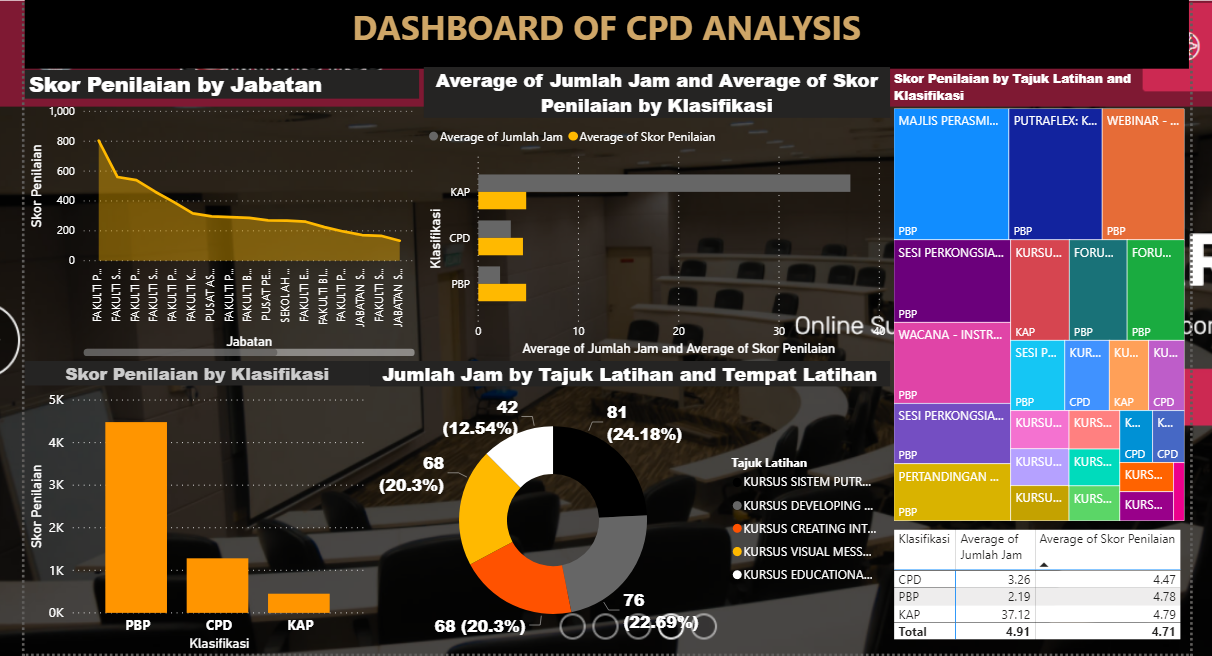

What the dashboard file says about the page in this screenshot:
{"tool":"powerbi","page":{"name":"Page 1","canvas":[1280,720],"ordinal":0},"visuals":[{"type":"clusteredColumnChart","fields":{"Y":["Sum(DATA PESERTA  CPD2020.Skor Penilaian)"],"Category":["DATA PESERTA  CPD2020.Klasifikasi"]},"box":[0,397.6,379.6,323.7],"z":0},{"type":"textbox","box":[0,0,1280,77.2],"z":1000},{"type":"donutChart","fields":{"Category":["DATA PESERTA  CPD2020.Tajuk Latihan"],"Y":["Sum(DATA PESERTA  CPD2020.Jumlah Jam)"],"Series":["DATA PESERTA  CPD2020.Tempat Latihan"]},"box":[379.6,397.6,571.8,322.1],"z":2000},{"type":"stackedAreaChart","fields":{"Category":["DATA PESERTA  CPD2020.Jabatan"],"Y":["Sum(DATA PESERTA  CPD2020.Skor Penilaian)"]},"box":[0,77.2,433.8,320.4],"z":3000},{"type":"pivotTable","fields":{"Rows":["DATA PESERTA  CPD2020.Klasifikasi"],"Values":["Avg(DATA PESERTA  CPD2020.Jumlah Jam)","Avg(DATA PESERTA  CPD2020.Skor Penilaian)"]},"box":[951.4,578.4,328.6,141.3],"z":4000},{"type":"clusteredBarChart","fields":{"Category":["DATA PESERTA  CPD2020.Klasifikasi"],"Y":["Avg(DATA PESERTA  CPD2020.Jumlah Jam)","Avg(DATA PESERTA  CPD2020.Skor Penilaian)"]},"box":[438.7,75.6,512.7,322.1],"z":5000},{"type":"treemap","fields":{"Group":["DATA PESERTA  CPD2020.Tajuk Latihan"],"Values":["Sum(DATA PESERTA  CPD2020.Skor Penilaian)"],"Details":["DATA PESERTA  CPD2020.Klasifikasi"]},"box":[951.4,77.2,328.6,501.2],"z":6000}]}

Visuals, with their boxes in screenshot pixels (x1, y1, x2, y2):
clusteredColumnChart - Sum(DATA PESERTA  CPD2020.Skor Penilaian) x DATA PESERTA  CPD2020.Klasifikasi: (left=35, top=370, right=376, bottom=655)
textbox: (left=35, top=13, right=1186, bottom=82)
donutChart - DATA PESERTA  CPD2020.Tajuk Latihan x Sum(DATA PESERTA  CPD2020.Jumlah Jam): (left=376, top=370, right=890, bottom=655)
stackedAreaChart - DATA PESERTA  CPD2020.Jabatan x Sum(DATA PESERTA  CPD2020.Skor Penilaian): (left=35, top=82, right=425, bottom=370)
pivotTable - DATA PESERTA  CPD2020.Klasifikasi x Avg(DATA PESERTA  CPD2020.Jumlah Jam): (left=890, top=533, right=1186, bottom=655)
clusteredBarChart - DATA PESERTA  CPD2020.Klasifikasi x Avg(DATA PESERTA  CPD2020.Jumlah Jam): (left=429, top=81, right=890, bottom=370)
treemap - DATA PESERTA  CPD2020.Tajuk Latihan x Sum(DATA PESERTA  CPD2020.Skor Penilaian): (left=890, top=82, right=1186, bottom=533)
